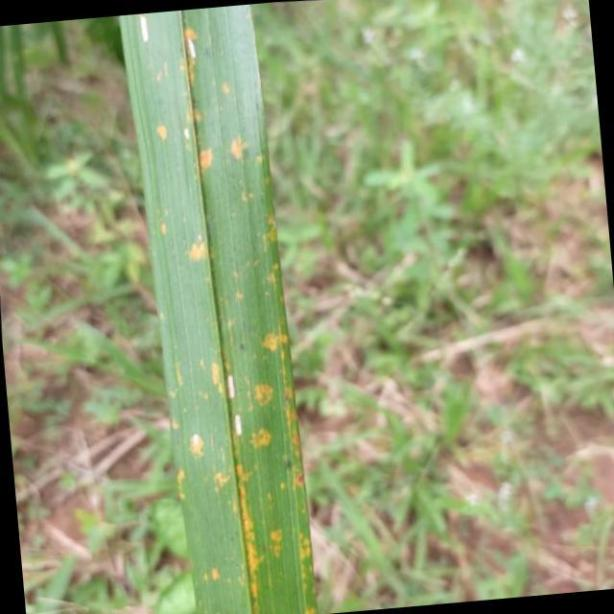Kalium: (120, 3, 319, 614)
